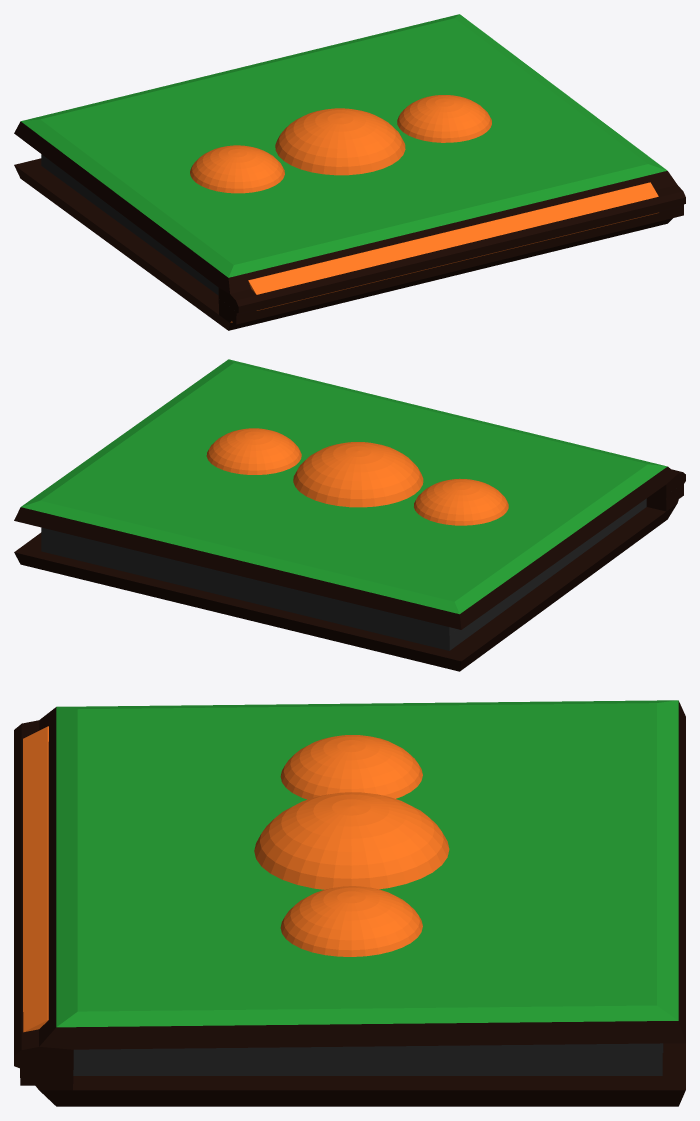
The picture shows the model from 3 angles, top to bottom: view 1: azimuth 30°, elevation 25°; view 2: azimuth 150°, elevation 25°; view 3: azimuth 270°, elevation 25°; orthographic projection. The views are drawn at different scales.
Visible parts, largest first — view 1: Page2, Page1; view 2: Page2, Page1; view 3: Page2, Page1.
Part boxes in pixels (left/top/right/bottom): Page2: left=14, top=14, right=685, bottom=313; Page1: left=14, top=154, right=683, bottom=330; Page2: left=14, top=359, right=685, bottom=635; Page1: left=14, top=483, right=683, bottom=671; Page2: left=14, top=700, right=685, bottom=1073; Page1: left=20, top=726, right=685, bottom=1106.
Bounding box in the file's own units: 713 × 143 × 620.
